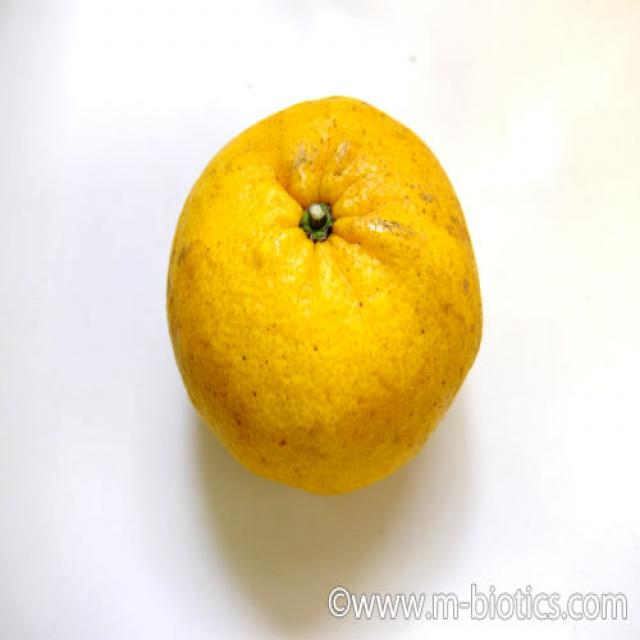Orange: (152, 96, 495, 498)
